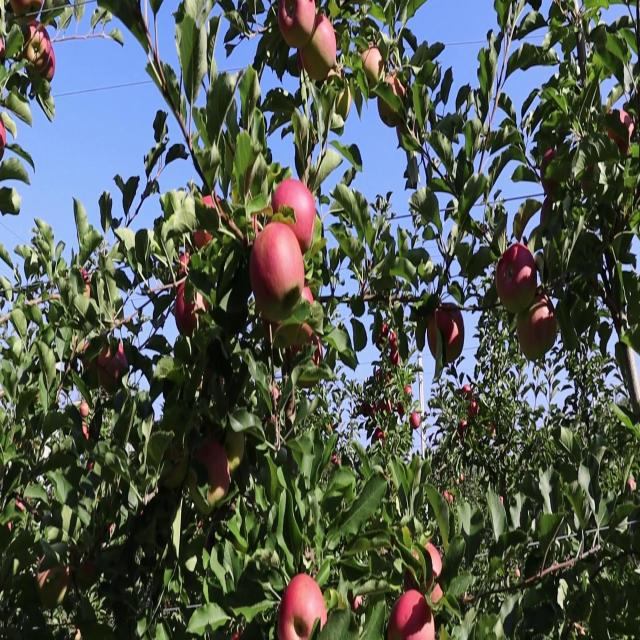apple: (248, 220, 306, 304), (272, 177, 318, 256), (496, 248, 540, 318), (280, 575, 328, 639), (516, 298, 560, 364), (192, 440, 232, 507), (428, 298, 467, 366), (304, 14, 339, 85), (284, 284, 315, 359), (528, 298, 560, 361), (604, 99, 637, 156), (280, 0, 316, 50), (380, 71, 409, 130), (192, 199, 223, 254), (396, 590, 428, 639), (300, 35, 331, 85), (176, 284, 203, 340), (360, 42, 385, 98), (516, 312, 543, 363), (380, 85, 408, 130), (292, 0, 317, 50), (100, 341, 128, 380), (164, 447, 188, 489), (192, 220, 219, 256), (540, 149, 559, 197), (224, 426, 247, 464), (424, 547, 444, 583), (336, 85, 352, 121), (176, 248, 192, 281), (288, 49, 305, 78), (388, 611, 406, 638), (420, 611, 437, 639), (80, 561, 97, 587), (312, 334, 324, 370), (428, 583, 444, 610), (44, 49, 56, 84), (40, 561, 51, 596), (292, 49, 305, 78), (348, 590, 364, 613), (12, 0, 30, 20), (80, 270, 92, 299), (0, 120, 8, 156), (444, 490, 456, 505), (84, 426, 91, 443)
